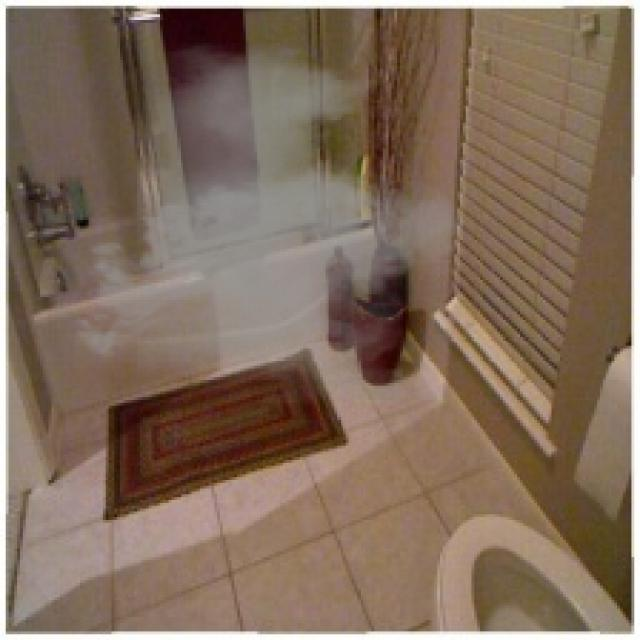smoke: (63, 43, 477, 406)
